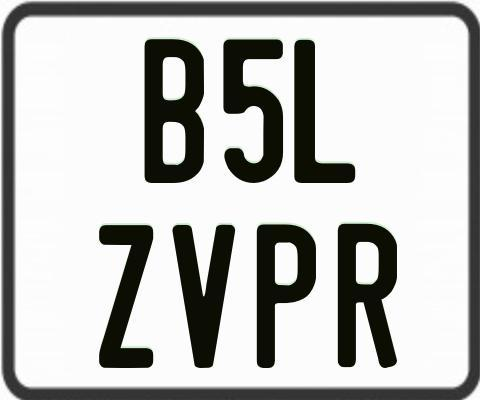5: (223, 37, 287, 187)
B: (144, 36, 208, 185)
L: (294, 40, 361, 186)
P: (255, 221, 319, 367)
R: (337, 222, 402, 370)
V: (173, 222, 239, 370)
Z: (99, 224, 158, 372)
